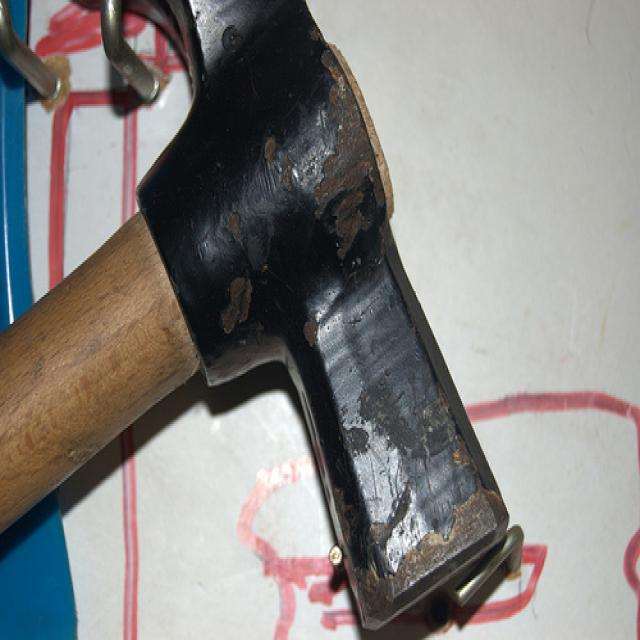hammer: (0, 0, 525, 640)
